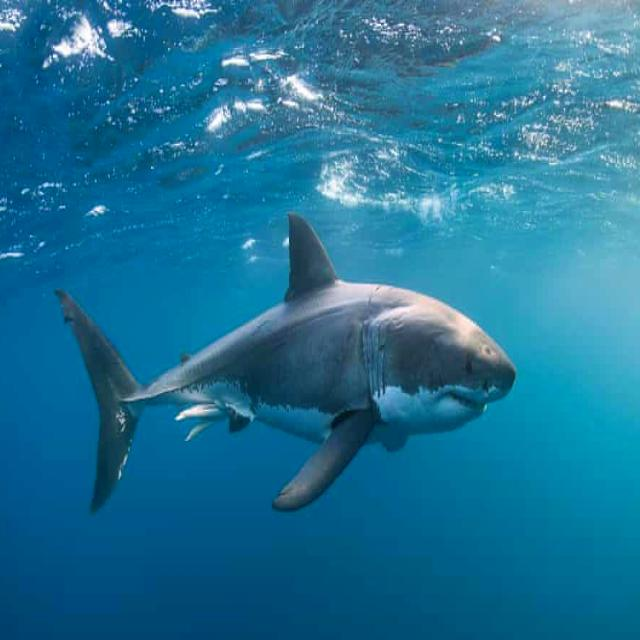shark: (58, 212, 516, 511)
